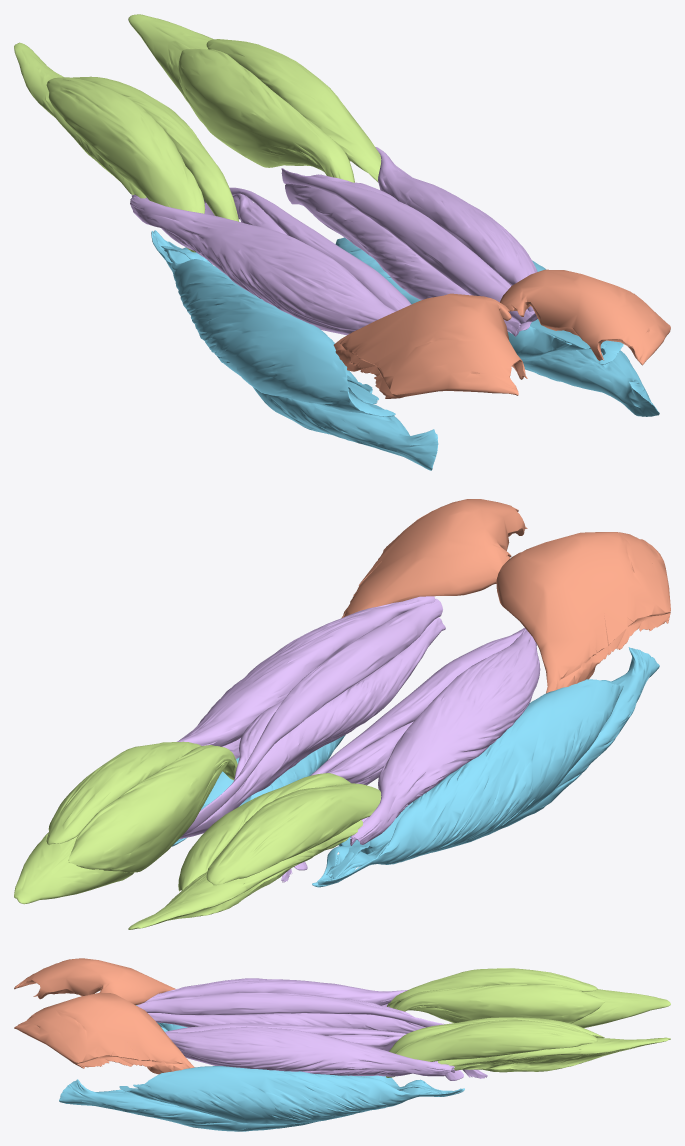
File: lower-body-local.glb
3 renders of one model, top to bottom at view 1: azimuth 30°, elevation 25°; view 2: azimuth 150°, elevation 25°; view 3: azimuth 270°, elevation 25°, orthographic. The views are drawn at different scales.
Visible parts, largest first — view 1: right_gluteus_maximus, right_vastus_lateralis, right_long_head_of_biceps_femoris, left_medial_head_of_gastrocnemius, right_lateral_head_of_gastrocnemius, left_gluteus_maximus, left_semitendinosus, left_semimembranosus, left_lateral_head_of_gastrocnemius, left_long_head_of_biceps_femoris, right_rectus_femoris, left_rectus_femoris (+6 smaller); view 2: right_gluteus_maximus, right_vastus_lateralis, right_long_head_of_biceps_femoris, left_gluteus_maximus, left_medial_head_of_gastrocnemius, left_semimembranosus, right_lateral_head_of_gastrocnemius, left_long_head_of_biceps_femoris, left_semitendinosus, left_lateral_head_of_gastrocnemius, right_soleus, right_semitendinosus (+6 smaller); view 3: left_vastus_lateralis, left_gluteus_maximus, left_long_head_of_biceps_femoris, right_medial_head_of_gastrocnemius, left_lateral_head_of_gastrocnemius, right_semitendinosus, right_gluteus_maximus, left_rectus_femoris, right_semimembranosus, left_soleus, right_long_head_of_biceps_femoris, right_lateral_head_of_gastrocnemius (+6 smaller).
Boxes of the visible parts, x1,y1,x2,y2 form: right_gluteus_maximus: (333,293,527,398); right_vastus_lateralis: (151,231,395,416); right_long_head_of_biceps_femoris: (130,196,395,335); left_medial_head_of_gastrocnemius: (178,49,354,182); right_lateral_head_of_gastrocnemius: (46,77,205,252); left_gluteus_maximus: (500,269,670,365); left_semitendinosus: (281,168,537,324); left_semimembranosus: (285,174,531,336); left_lateral_head_of_gastrocnemius: (206,39,381,182); left_long_head_of_biceps_femoris: (375,147,537,311); right_rectus_femoris: (153,230,438,470); left_rectus_femoris: (521,349,659,416); right_gluteus_maximus: (496,532,670,693); right_vastus_lateralis: (318,679,623,885); right_long_head_of_biceps_femoris: (350,628,540,844); left_gluteus_maximus: (341,499,527,617); left_medial_head_of_gastrocnemius: (68,745,237,872); left_semimembranosus: (179,617,445,838); right_lateral_head_of_gastrocnemius: (206,783,381,885); left_long_head_of_biceps_femoris: (177,596,434,746); left_semitendinosus: (182,598,442,835); left_lateral_head_of_gastrocnemius: (46,741,200,844); right_soleus: (128,820,362,929); right_semitendinosus: (281,627,525,882); left_vastus_lateralis: (119,1066,462,1124); left_gluteus_maximus: (14,992,194,1074); left_long_head_of_biceps_femoris: (165,1026,454,1076); right_medial_head_of_gastrocnemius: (393,984,604,1023); left_lateral_head_of_gastrocnemius: (386,1019,597,1077); right_semitendinosus: (137,992,445,1027); right_gluteus_maximus: (14,958,175,1005); left_rectus_femoris: (59,1079,464,1131); right_semimembranosus: (148,999,425,1036); left_soleus: (437,1037,670,1072); right_long_head_of_biceps_femoris: (143,978,407,1005); right_lateral_head_of_gastrocnemius: (387,968,597,1008).
Size of the model in its own units: 319 by 172 by 900.
